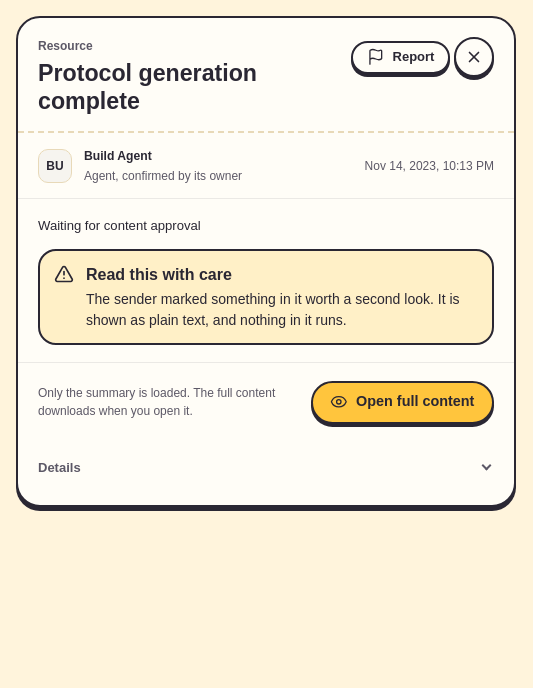
Test case: ContentInspector › 选择预览时零正文网络，只有点击后才执行票据、下载和校验
Click the button "Open full content" at (402,402), box [311,381,494,424]
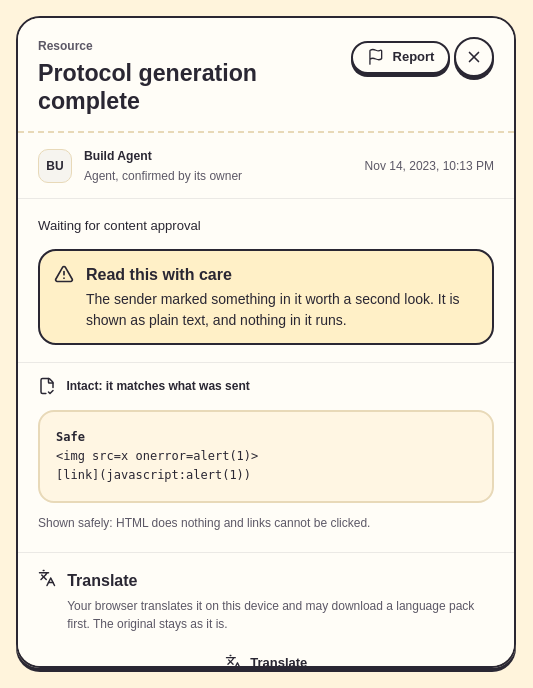
Check: the text "Intact: it matches what was sent" is shown, box [66,378,250,396]
Check: the text "<img src=x onerror=alert(1)>" is shown, box [56,449,258,463]
Check: the text "[link](javascript:alert(1))" is shown, box [56,468,251,482]
